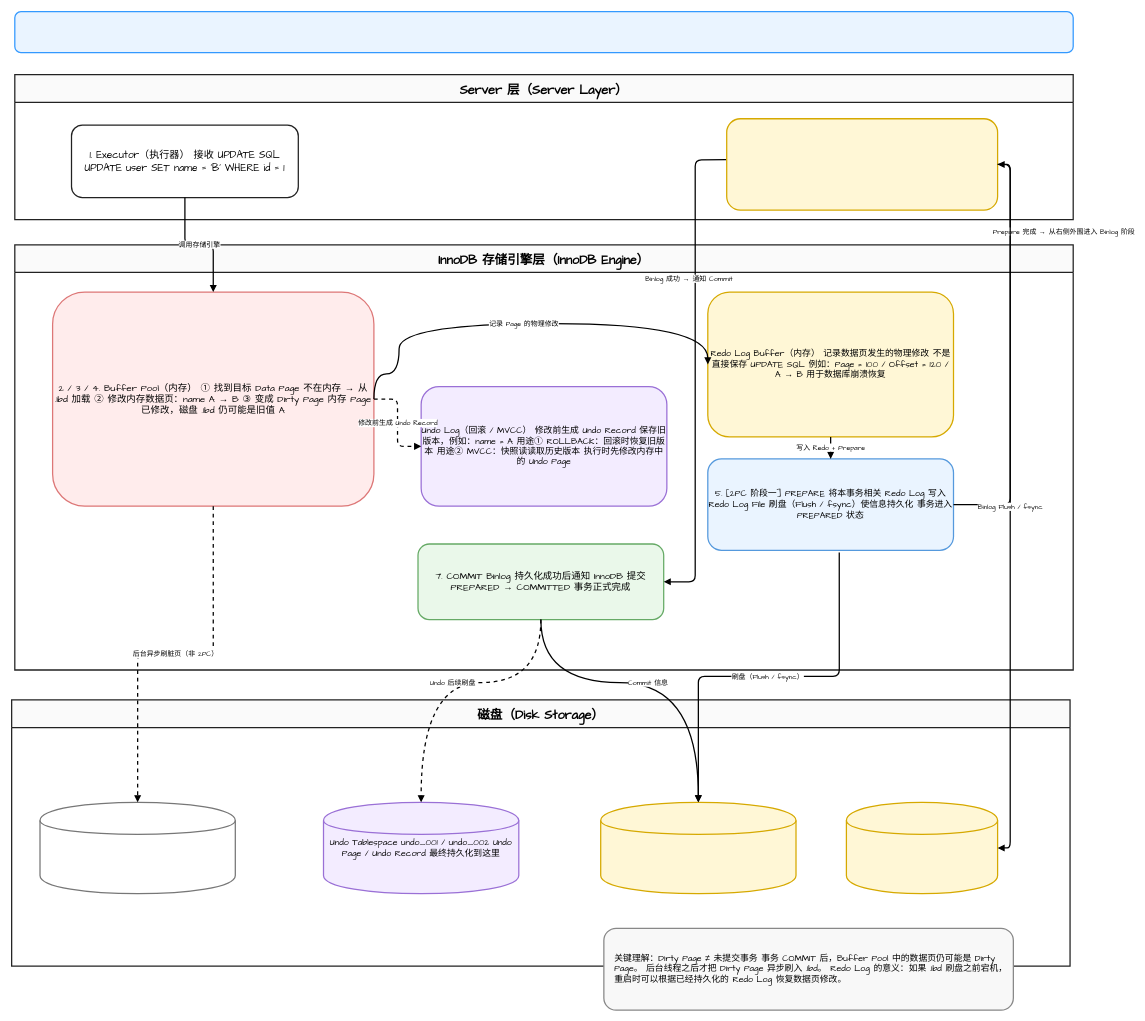
The diagram is 1145 pixels wide and 1021 high, and some of its shapes have lost their labels. Here are the shapes that lost their labels. From the top down, the centre of each, then its label:
[544,32]: ⚡ UPDATE 执行流程：Buffer Pool + Undo Log + Redo Log + Binlog 两阶段提交（2PC）
[862,164]: 6. [2PC 阶段二] Binlog Cache（内存） 写入本事务的 Binlog Event 记录逻辑层面的变更 准备刷入 Binlog 文件
[137,847]: 数据文件 .ibd Page 100 可能仍是旧值 A Dirty Page 后台异步刷回这里
[698,847]: Redo Log File #ib_redo* / Redo Log 文件 持久化 Redo Record 以及 Prepare / Commit 恢复信息
[921,847]: Binlog 文件 binlog.000001 ... 逻辑变更事件 主从复制 / PITR
